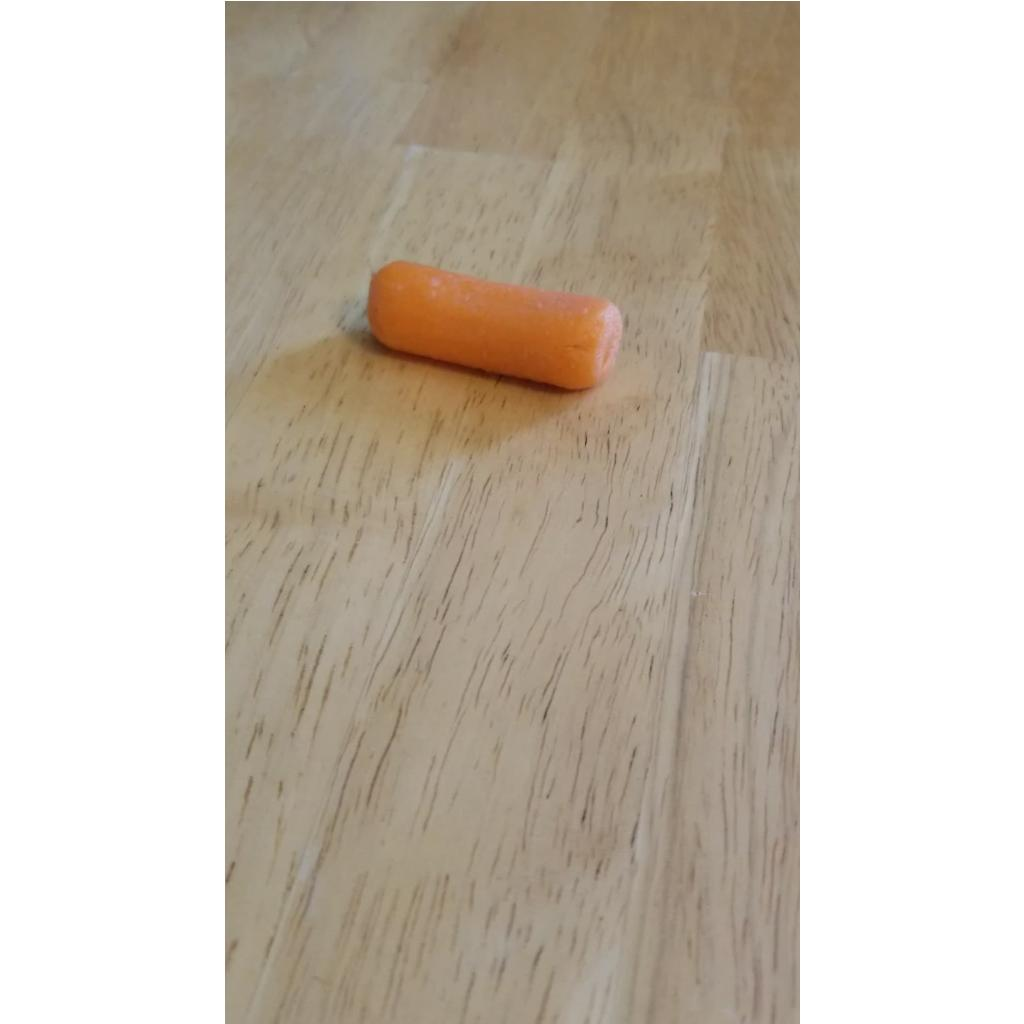carrot: (366, 260, 622, 388)
